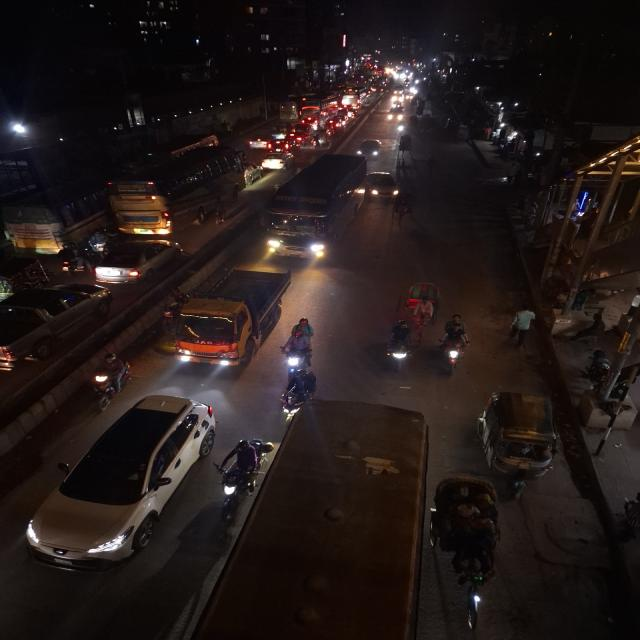bus: (218, 398, 438, 640), (104, 143, 246, 235), (261, 152, 368, 264), (1, 178, 110, 252)
car: (16, 389, 219, 575), (0, 282, 113, 374), (92, 235, 182, 283), (366, 168, 398, 202), (248, 131, 290, 150), (260, 150, 294, 172), (355, 136, 385, 160)
cng: (474, 388, 562, 499), (0, 254, 50, 300)
motorcycle: (215, 435, 261, 521), (84, 349, 134, 411), (277, 315, 320, 380), (436, 312, 476, 374), (279, 368, 317, 418), (382, 318, 414, 375), (56, 245, 88, 275), (310, 132, 326, 150)
pedestrian: (506, 305, 539, 349)
pickup_van: (168, 266, 292, 368)
rickshaw: (426, 473, 507, 638), (390, 278, 443, 346), (395, 132, 415, 156)
